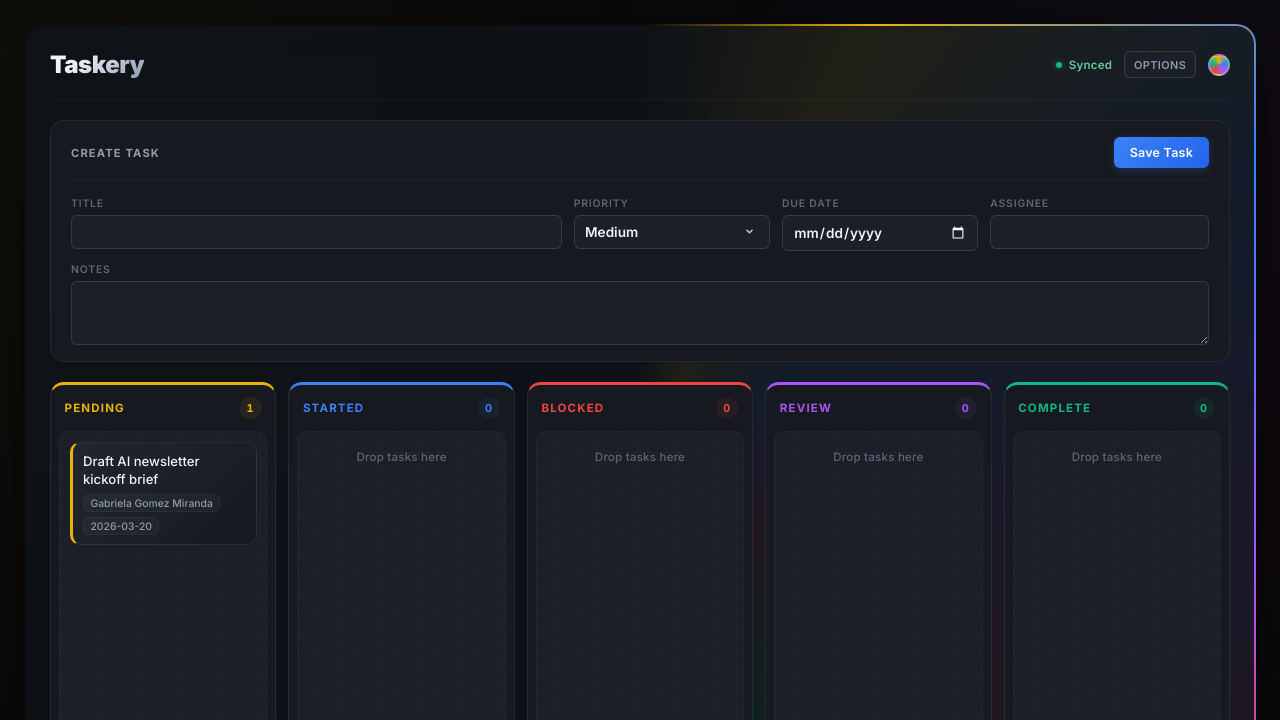
task hover popup contract › shows a task details popup after 500ms hover and hides on mouse leave
Hover over the button with test id "task-card-task-1" at coordinates (163, 493), box [70,442,257,545]
Wait 500 ms
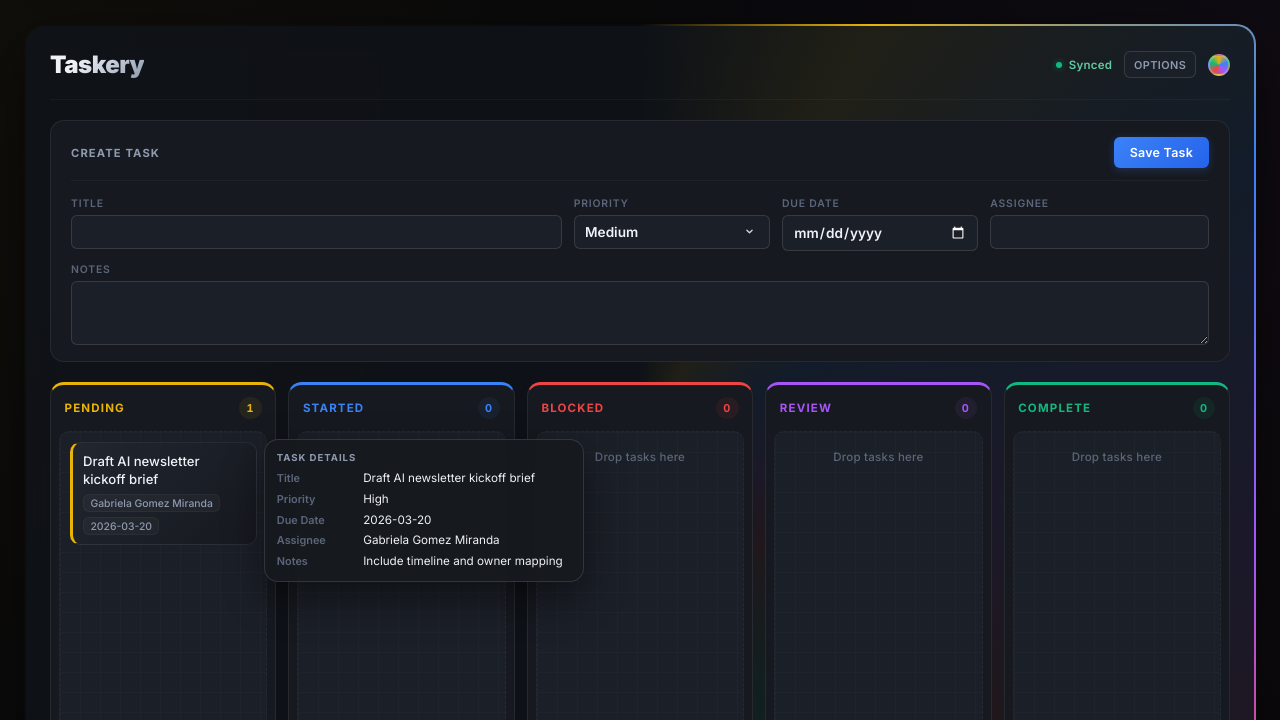
Now the text "Task Details" is shown, box [277,452,356,463]
Now the text "Title" is shown, box [277,471,300,485]
Now the text "Priority" is shown, box [277,492,315,506]
Move the pointer off the button with test id "task-card-task-1", box [70,442,257,545]
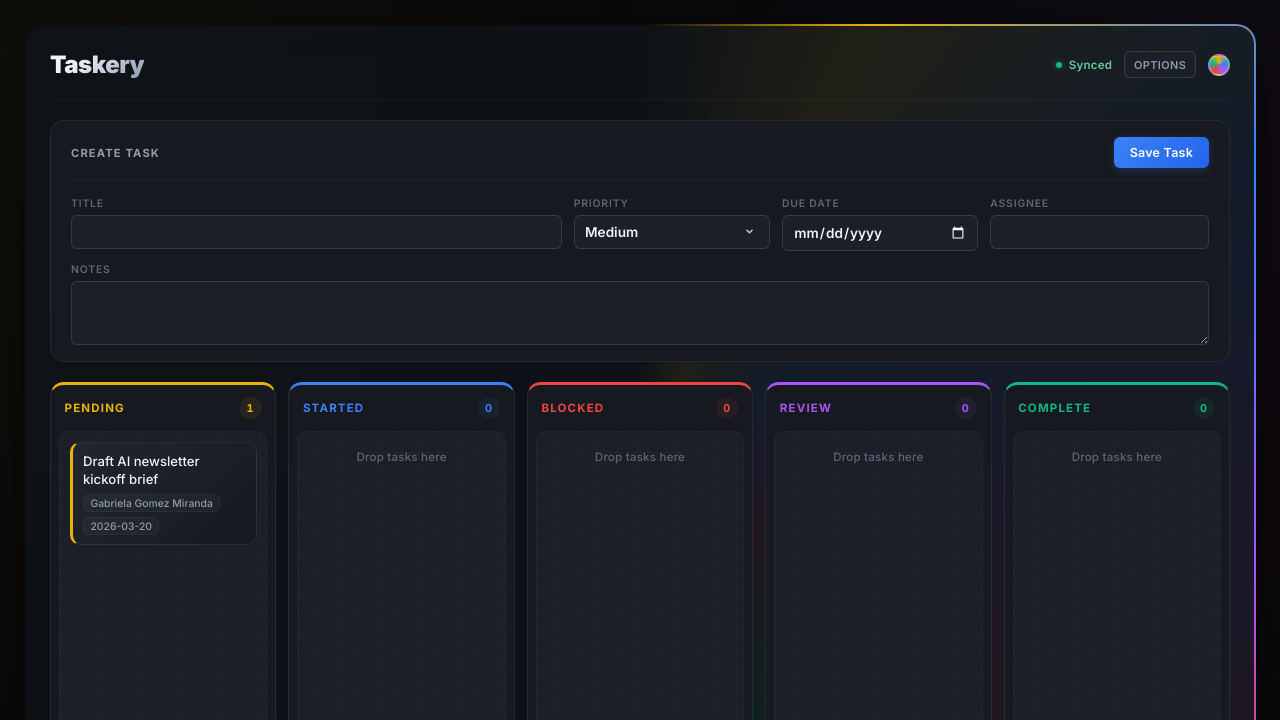
Now the tooltip with test id "task-hover-popup-task-1" is gone
